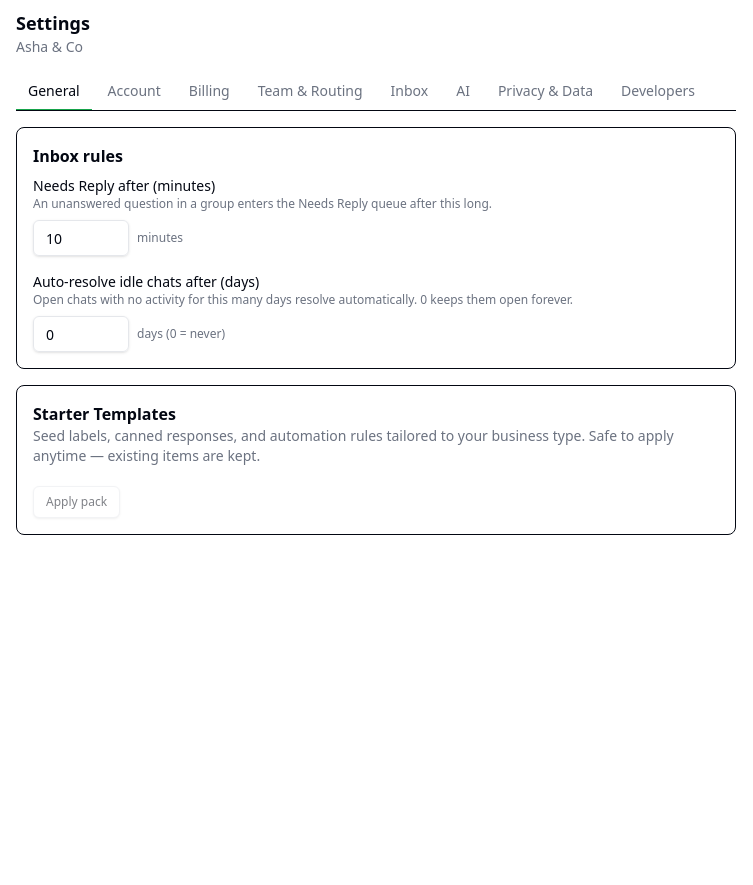
Test: SettingsPage › Inbox tab renders labels and canned responses
What coordinates should you click on to do the following:
click the tab "Inbox"
I would click on:
 (409, 92)
Its box is [379,73,440,111].
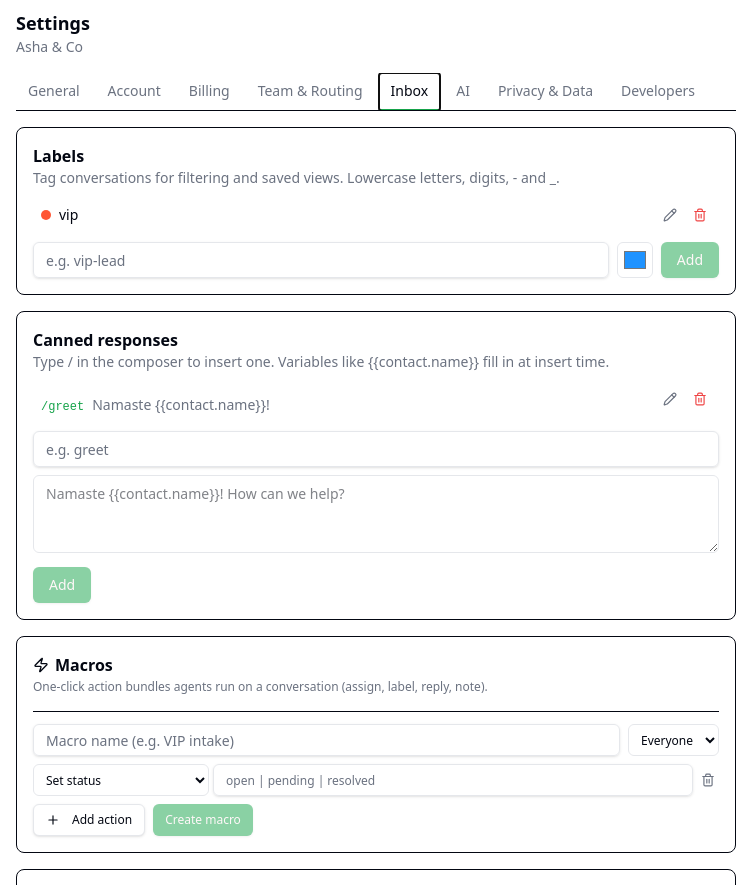
Expected: the text "vip" is shown, [59,205,78,224]
Expected: the text "/greet" is shown, [41,399,84,415]
